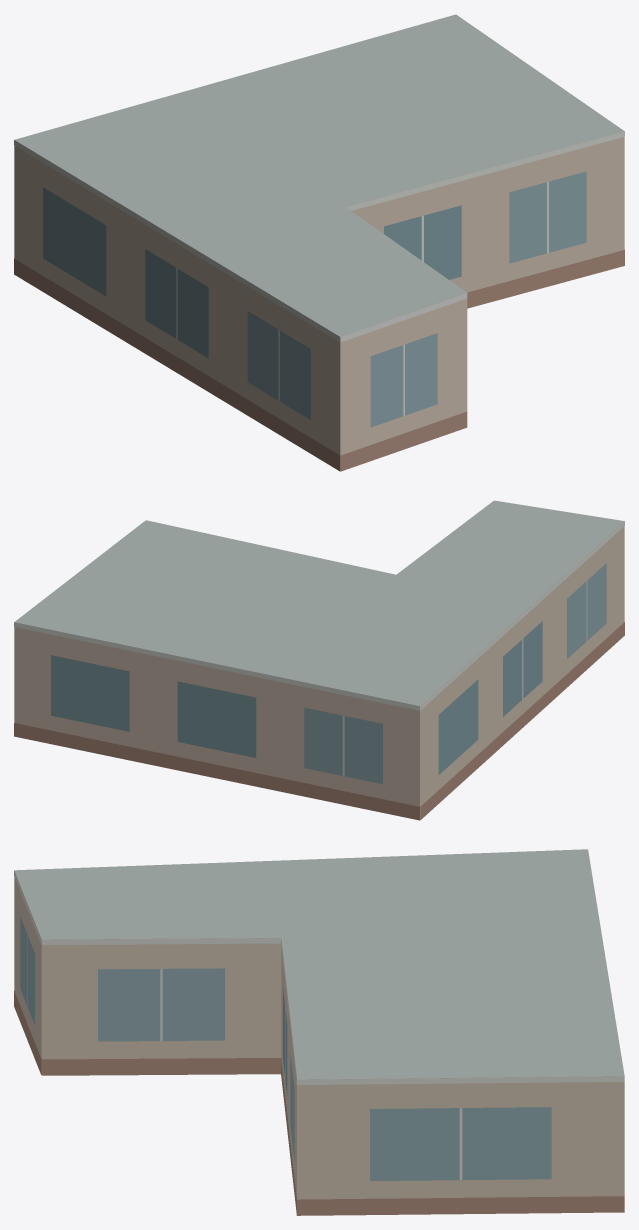
The model's file is survey-upis-32942128.glb.
3 renders of one model, top to bottom at view 1: azimuth 30°, elevation 25°; view 2: azimuth 150°, elevation 25°; view 3: azimuth 270°, elevation 25°, orthographic. The views are drawn at different scales.
Visible parts, largest first — view 1: survey-upis-32942128.tmp; view 2: survey-upis-32942128.tmp; view 3: survey-upis-32942128.tmp.
Boxes of the visible parts, box(x1,y1,x2,y2) form: survey-upis-32942128.tmp: box(14, 14, 624, 471); survey-upis-32942128.tmp: box(14, 500, 624, 820); survey-upis-32942128.tmp: box(14, 849, 624, 1215).
Size of the model in its own units: 11.08 by 3.05 by 12.41.
